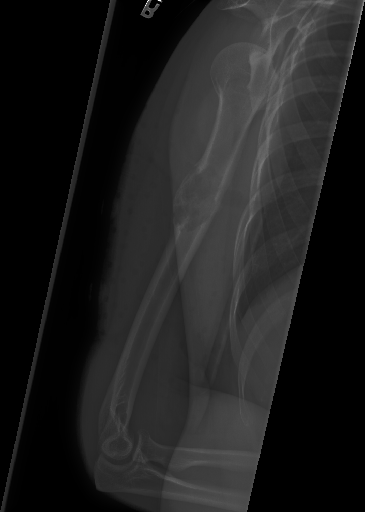fracture: (163, 150, 232, 262)
